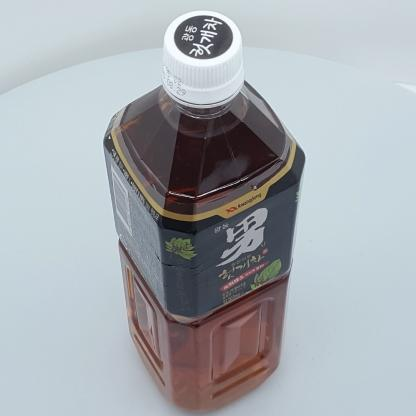----------1L: (103, 10, 305, 411)
